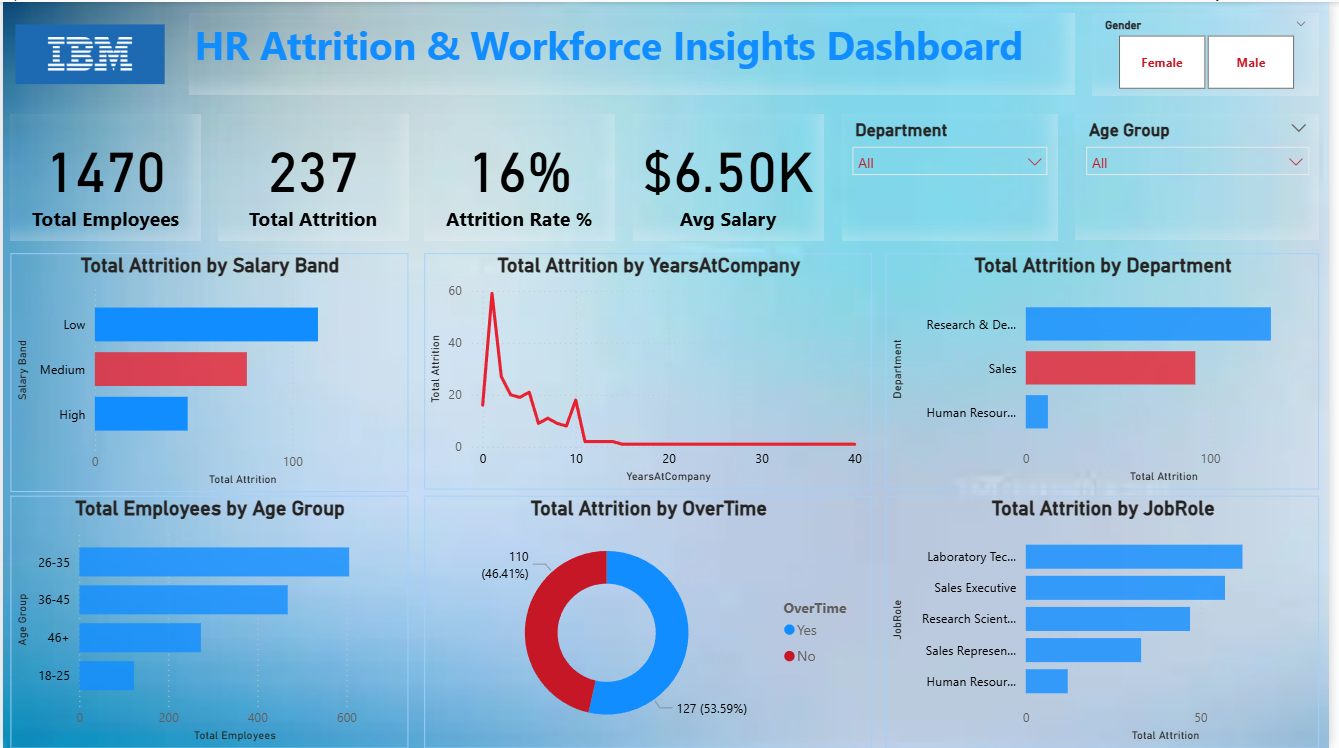

Layout of this report page (visuals, bound fields, positions):
{"tool":"powerbi","page":{"name":"Page 1","canvas":[1280,720],"ordinal":0},"visuals":[{"type":"card","fields":{"Values":["HR-Employee-Attrition.Total Employees"]},"box":[6.9,108.4,183.9,122.1],"z":0},{"type":"card","fields":{"Values":["HR-Employee-Attrition.Total Attrition"]},"box":[207.2,108.4,183.9,122.1],"z":1000},{"type":"card","fields":{"Values":["HR-Employee-Attrition.Avg Salary"]},"box":[607.9,108.4,183.9,122.1],"z":2000},{"type":"card","fields":{"Values":["HR-Employee-Attrition.Attribution Rate %"]},"box":[406.2,108.4,183.9,122.1],"z":3000},{"type":"clusteredBarChart","fields":{"Category":["HR-Employee-Attrition.Department"],"Y":["HR-Employee-Attrition.Total Attrition"]},"box":[851.7,242.5,418.6,228],"z":4000},{"type":"barChart","fields":{"Category":["HR-Employee-Attrition.JobRole"],"Y":["HR-Employee-Attrition.Total Attrition"]},"box":[851.7,476.5,418.6,243.7],"z":5000},{"type":"barChart","fields":{"Category":["HR-Employee-Attrition.Age Group"],"Y":["HR-Employee-Attrition.Total Employees"]},"box":[7.2,476.5,383.6,243.7],"z":6000},{"type":"lineChart","fields":{"Category":["HR-Employee-Attrition.YearsAtCompany"],"Y":["HR-Employee-Attrition.Total Attrition"]},"box":[406.6,242.5,431.9,228],"z":7000},{"type":"slicer","fields":{"Values":["HR-Employee-Attrition.Age Group"]},"box":[1035.1,108.6,235.3,121.9],"z":8000},{"type":"slicer","fields":{"Values":["HR-Employee-Attrition.Department"]},"box":[809.6,108.4,208.6,122.1],"z":9000},{"type":"slicer","fields":{"Values":["HR-Employee-Attrition.Gender"]},"box":[1050.8,10.9,219.6,79.6],"z":10000},{"type":"donutChart","fields":{"Category":["HR-Employee-Attrition.OverTime"],"Y":["HR-Employee-Attrition.Total Attrition"]},"box":[406.6,476.5,431.9,243.7],"z":11000},{"type":"barChart","fields":{"Category":["HR-Employee-Attrition.Salary Band"],"Y":["HR-Employee-Attrition.Total Attrition"]},"box":[7.2,242.5,383.6,230.4],"z":12000},{"type":"textbox","box":[179.8,11,854.9,79.6],"z":13000},{"type":"image","box":[6.9,2.7,153.7,96.1],"z":14000}]}

Visuals, with their boxes in screenshot pixels (x1, y1, x2, y2), scaled from the page's 1280x720 canvas onto the 1339x748 screenshot:
card - HR-Employee-Attrition.Total Employees: 7/113/200/239
card - HR-Employee-Attrition.Total Attrition: 217/113/409/239
card - HR-Employee-Attrition.Avg Salary: 636/113/828/239
card - HR-Employee-Attrition.Attribution Rate %: 425/113/617/239
clusteredBarChart - HR-Employee-Attrition.Department x HR-Employee-Attrition.Total Attrition: 891/252/1329/489
barChart - HR-Employee-Attrition.JobRole x HR-Employee-Attrition.Total Attrition: 891/495/1329/747
barChart - HR-Employee-Attrition.Age Group x HR-Employee-Attrition.Total Employees: 8/495/409/747
lineChart - HR-Employee-Attrition.YearsAtCompany x HR-Employee-Attrition.Total Attrition: 425/252/877/489
slicer - HR-Employee-Attrition.Age Group: 1083/113/1329/239
slicer - HR-Employee-Attrition.Department: 847/113/1065/239
slicer - HR-Employee-Attrition.Gender: 1099/11/1329/94
donutChart - HR-Employee-Attrition.OverTime x HR-Employee-Attrition.Total Attrition: 425/495/877/747
barChart - HR-Employee-Attrition.Salary Band x HR-Employee-Attrition.Total Attrition: 8/252/409/491
textbox: 188/11/1082/94
image: 7/3/168/103
